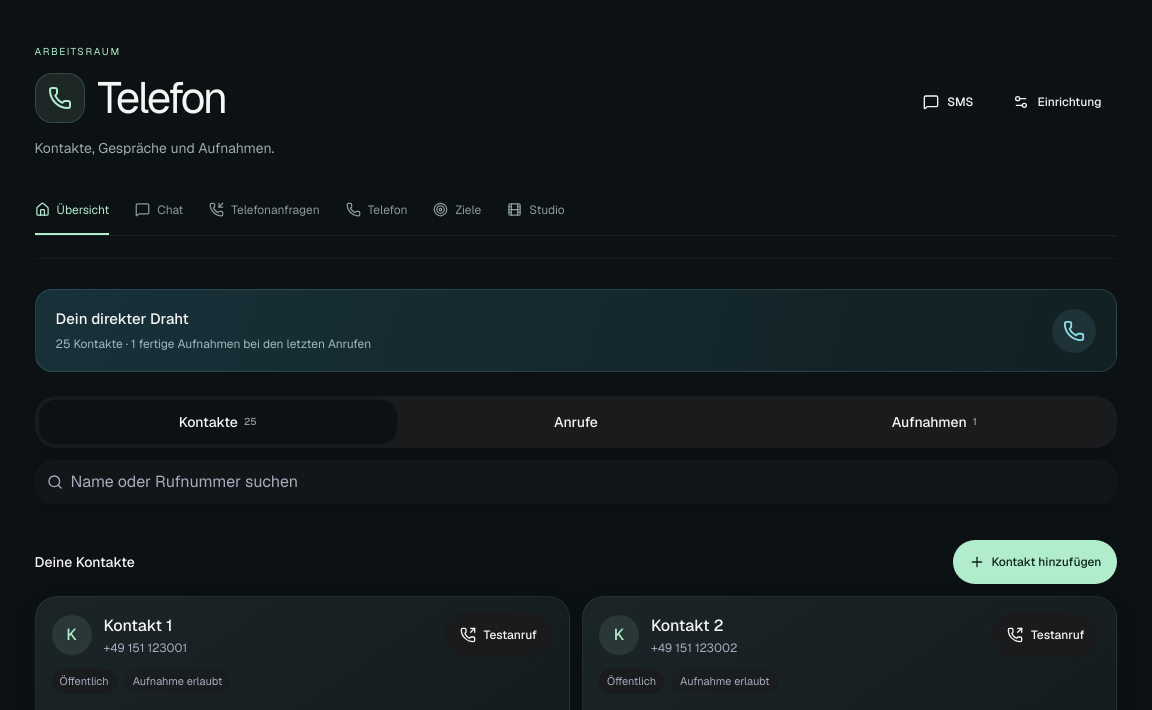
Test: Telefonkontakte › zeigt kompakte Kontakte, durchsucht auch nicht angezeigte Kontakte und erreicht Aufnahmen direkt
Check: the heading "Kontakt 1" is shown, box top-left (104, 615), bottom-right (172, 636)
Check: the heading "Kontakt 25" is not shown
Type "Kontakt 25" into the search field at coordinates (588, 482), box top-left (70, 470), bottom-right (1105, 494)
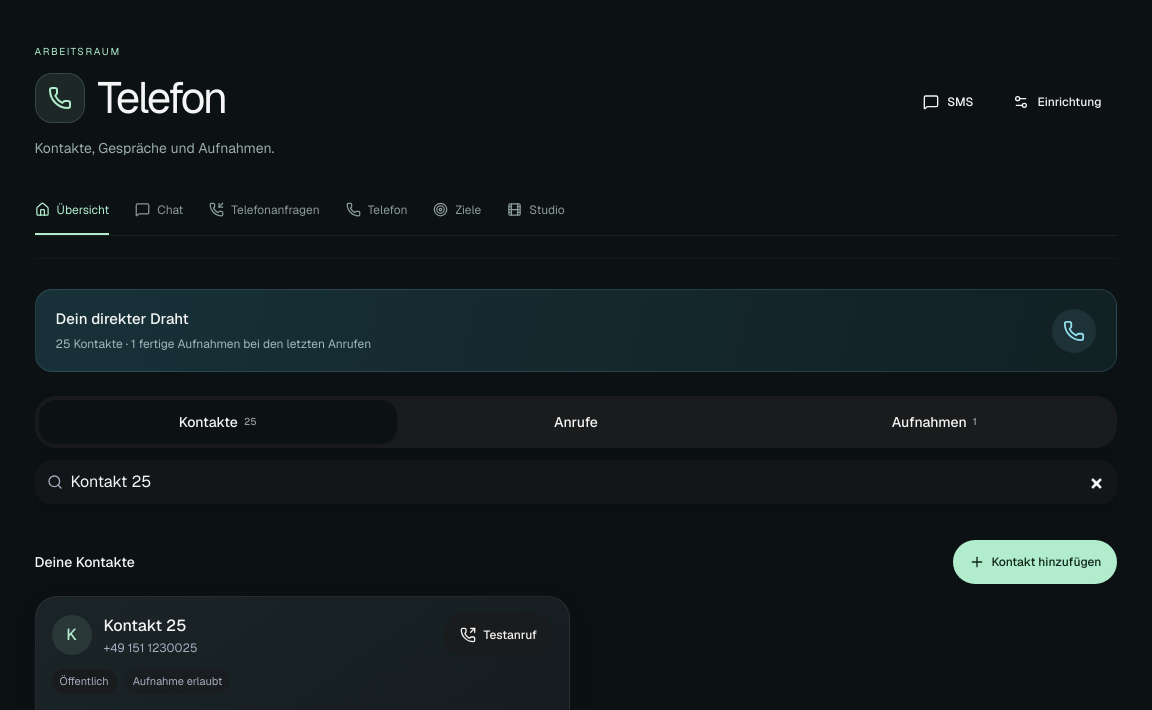
Check: the heading "Kontakt 25" is shown, box top-left (104, 615), bottom-right (186, 636)
Click the tab "Aufnahmen 1" at coordinates (934, 422), box top-left (755, 400), bottom-right (1113, 444)
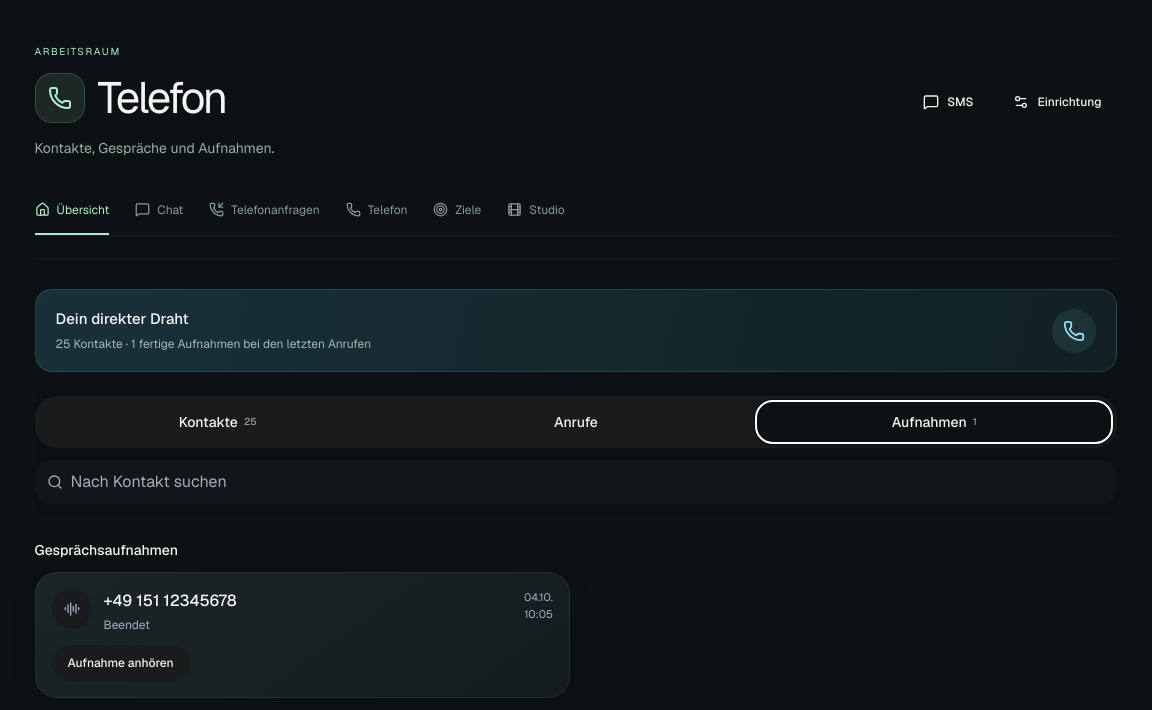
Check: the search field is empty, box top-left (70, 470), bottom-right (1105, 494)
Check: the button "Aufnahme anhören" is shown, box top-left (52, 645), bottom-right (190, 681)
